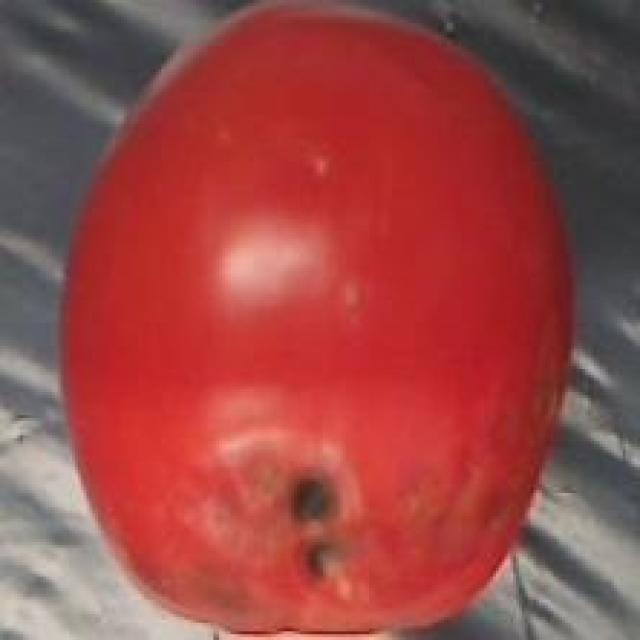overripe tomato: (55, 0, 579, 640)
